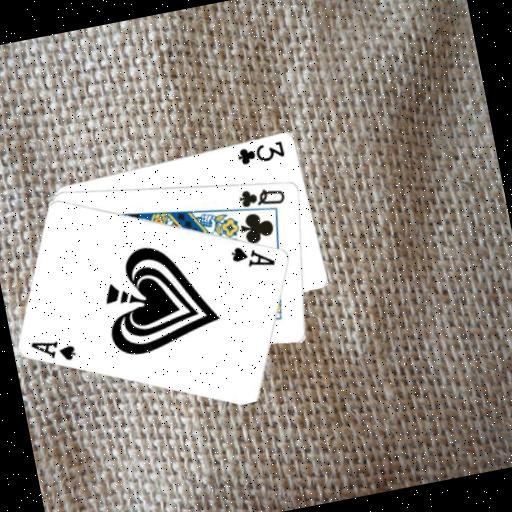3C: (234, 137, 288, 169)
AS: (27, 331, 79, 370), (228, 237, 279, 274)
QC: (234, 179, 288, 213)
